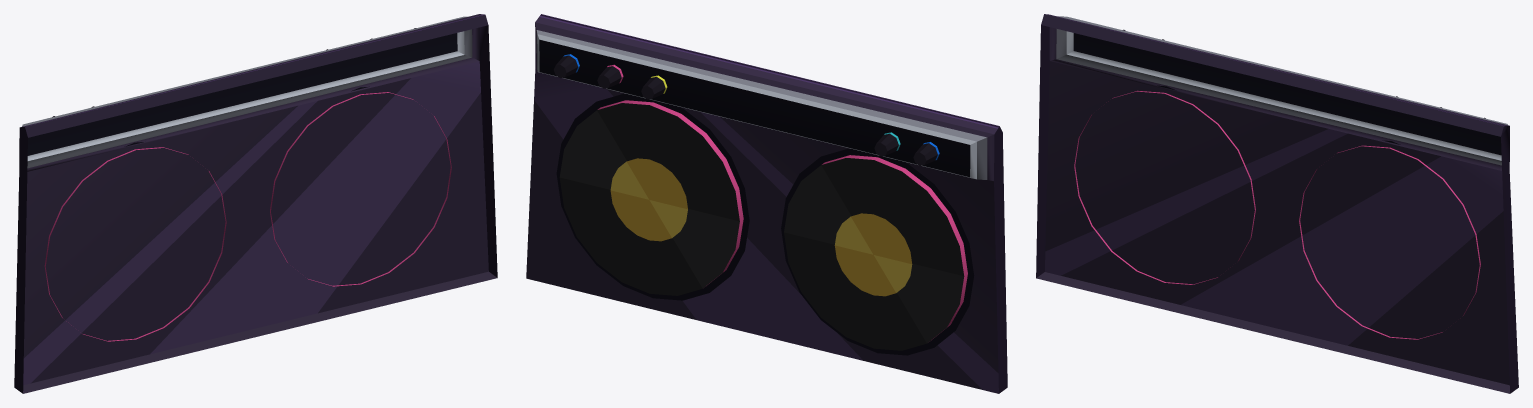
The model's file is djCadenceTurnTable.fbx.
3 views of the same model, side by side, from view 1: azimuth 30°, elevation 25°; view 2: azimuth 150°, elevation 25°; view 3: azimuth 330°, elevation 25° (orthographic).
Visible parts, largest first — view 1: djCadenceTurnTable; view 2: djCadenceTurnTable; view 3: djCadenceTurnTable.
Part boxes in pixels (x1=…): djCadenceTurnTable: x1=14, y1=14, x2=497, y2=393; djCadenceTurnTable: x1=526, y1=14, x2=1007, y2=393; djCadenceTurnTable: x1=1036, y1=14, x2=1518, y2=393.
Bounding box in the file's own units: 103 × 54.72 × 10.79.
